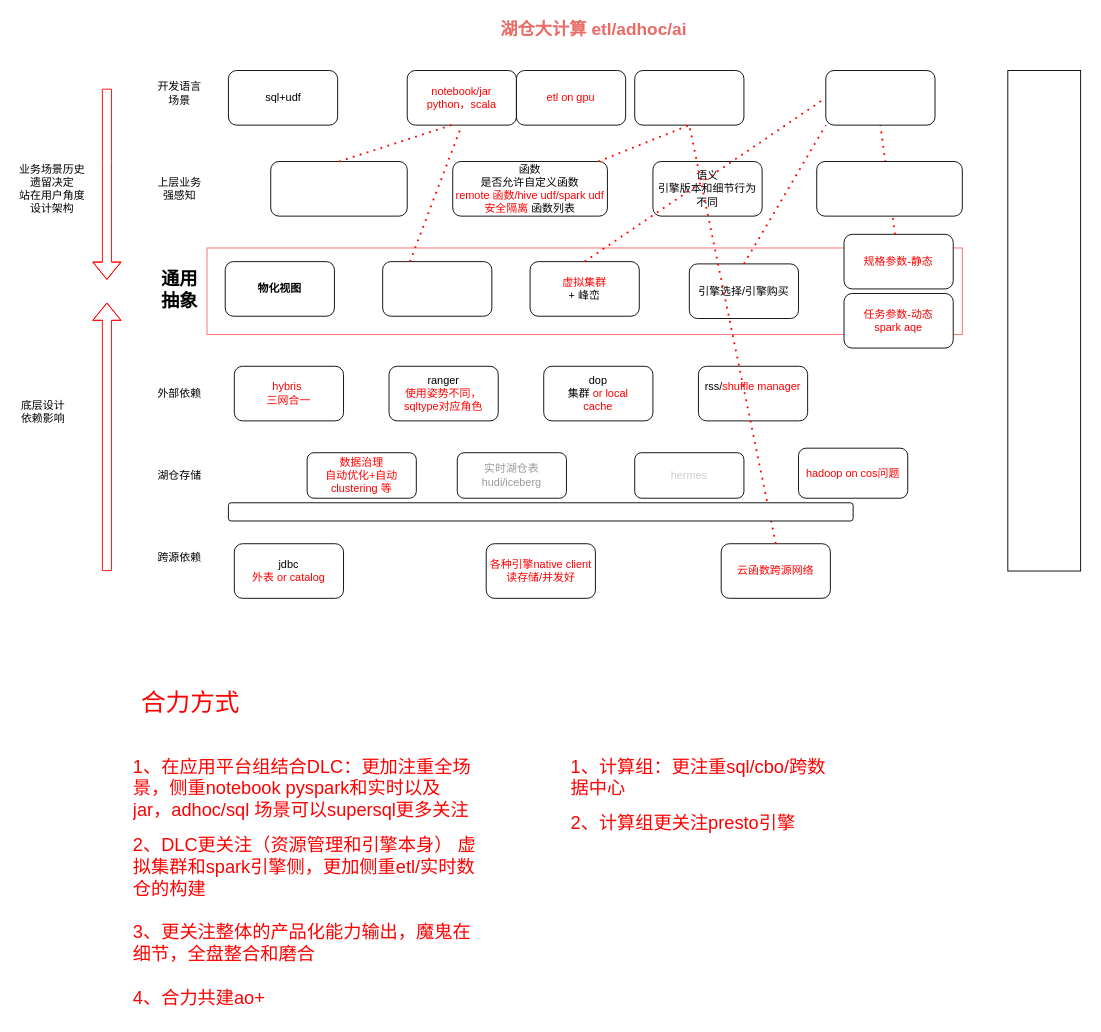
Image size: 1101x1032. Some labels were removed from this diagram. Here are the shapes that lost their labels. From the top down, the centre of each, then its label:
point 689,97: 公有云网络/跨租户共享安全
point 880,97: 用户运维
point 338,188: sql语法/视图 dlc偏hive/spark thive/supersql 多catalog/统一catalog
point 889,188: 日志、errocode、监控告警 更好用presto/spark ui
point 437,288: sql下推/cbo/hbo notebook/jar怎么玩
point 1044,320: 引擎贯穿始终 spark为主 flink/presto等为辅
point 540,511: ozone+dop
